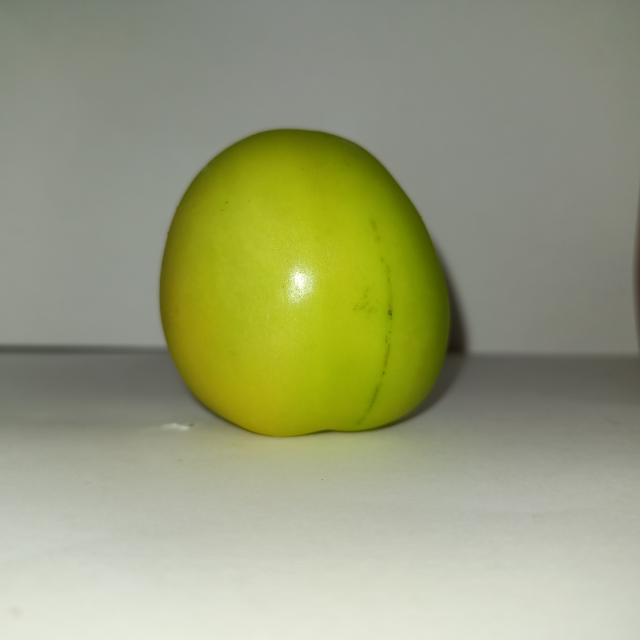Red: (157, 126, 453, 437)
